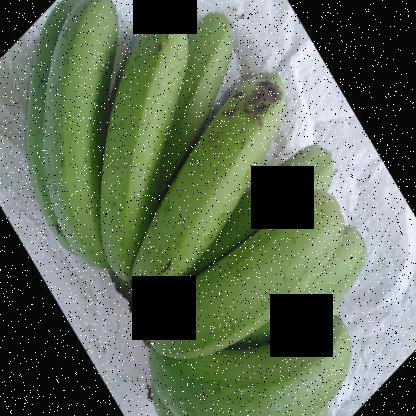unripe: (136, 206, 352, 365), (148, 68, 290, 302), (92, 15, 189, 260), (48, 1, 133, 269), (147, 328, 364, 415)
